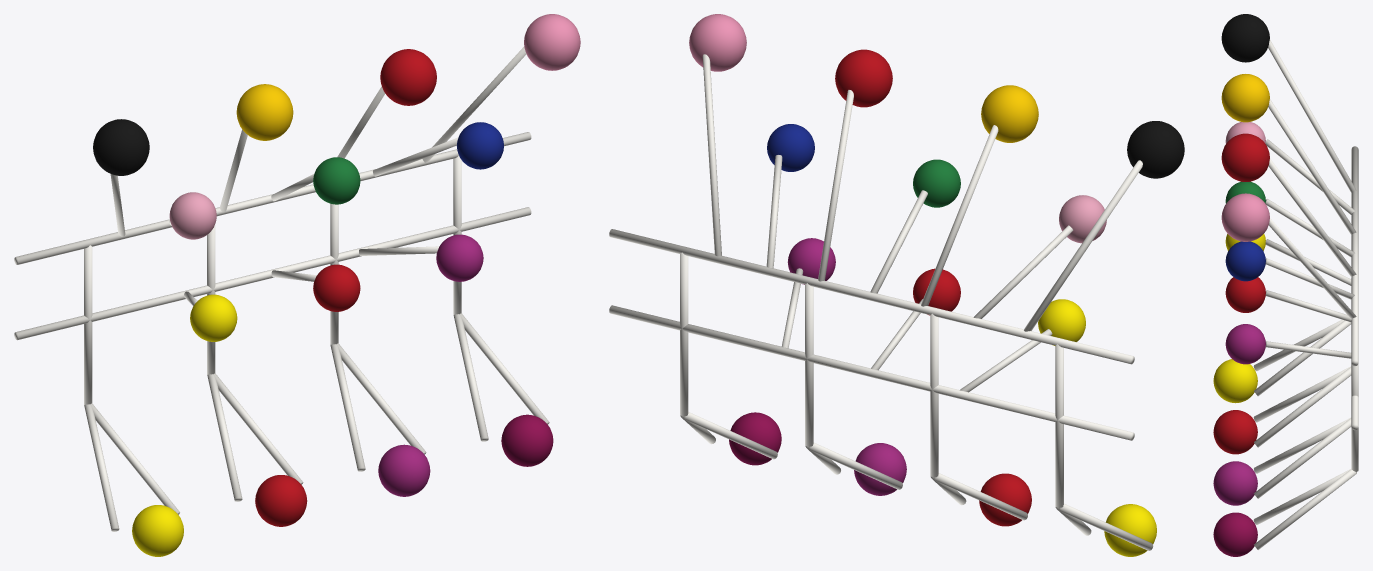
File: design-hang-it-all.glb
3 views of the same model, side by side, from view 1: azimuth 30°, elevation 25°; view 2: azimuth 150°, elevation 25°; view 3: azimuth 270°, elevation 25° (orthographic). The views are drawn at different scales.
Parts seen in each view (by area): view 1: design-hang-it-all; view 2: design-hang-it-all; view 3: design-hang-it-all.
Part boxes in pixels (<box>): design-hang-it-all: <box>14,14,580,556</box>; design-hang-it-all: <box>609,14,1184,556</box>; design-hang-it-all: <box>1213,14,1358,556</box>.
Bounding box in the file's own units: 0.5 × 0.406 × 0.1435.
